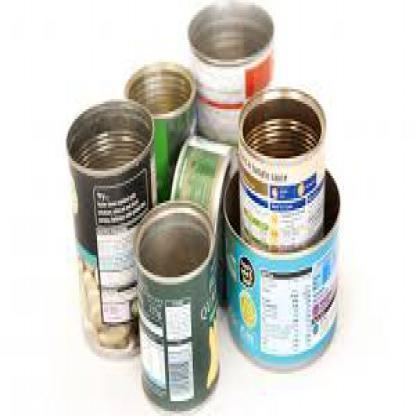METAL: (220, 161, 340, 371), (64, 97, 154, 362), (132, 198, 220, 409), (236, 84, 324, 250), (186, 0, 273, 154), (168, 131, 241, 305), (124, 62, 196, 203)
